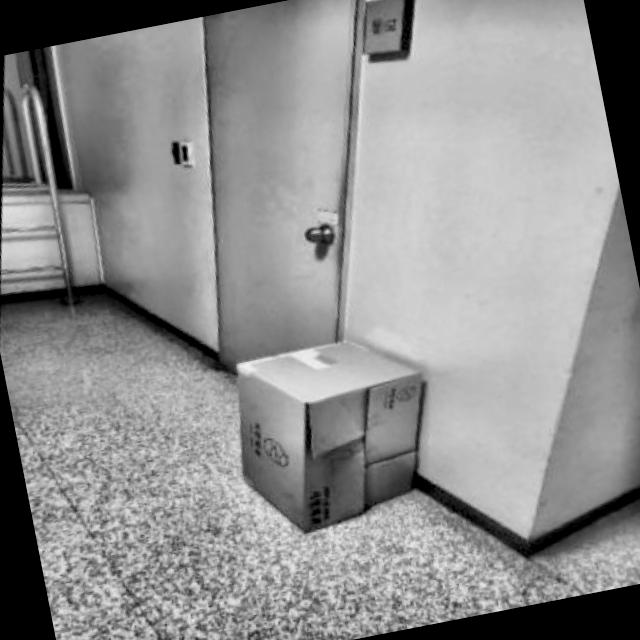box: (178, 288, 472, 578)
